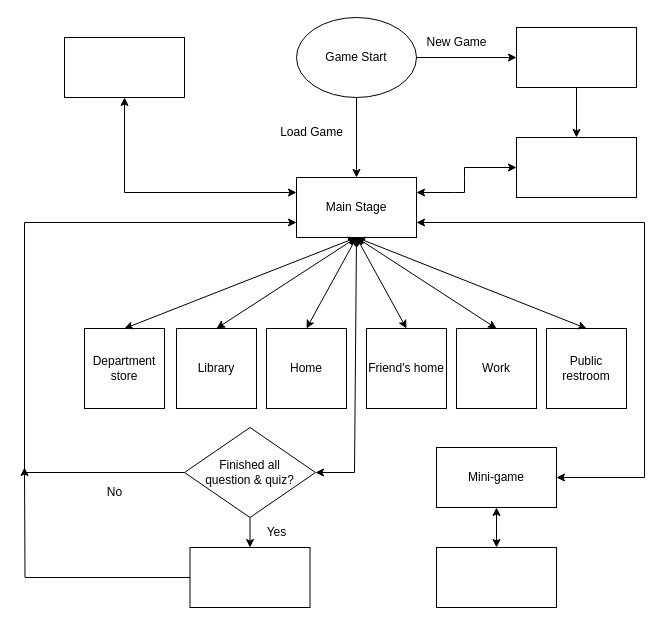
The diagram is 671 pixels wide and 625 high, and some of its shapes have lost their labels. The centre of each missing label's shape, as x and y in pixels:
"Create New User" goes at (576,57).
"Mini-game Tutorial" goes at (496,577).
"Preference&Quizzes Feedback" goes at (249,577).
"Shop" goes at (124,67).
"Tutorial" goes at (576,167).
